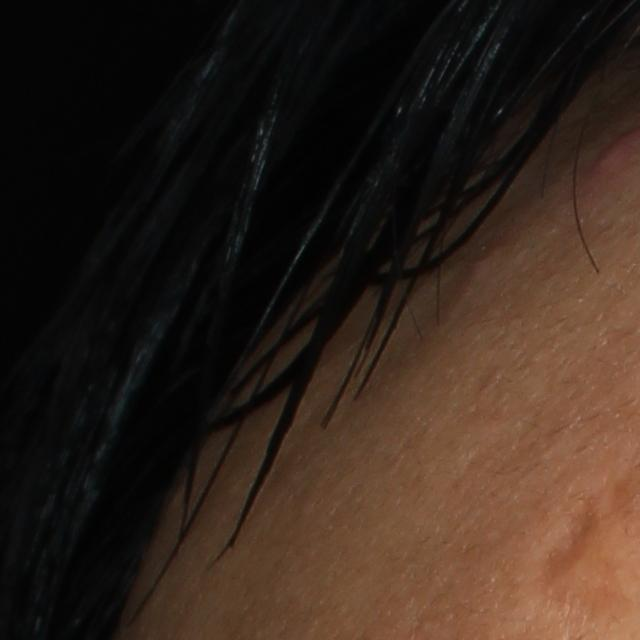atrophic_scar: (535, 497, 607, 599), (562, 562, 631, 631)
papule: (583, 121, 638, 188)
